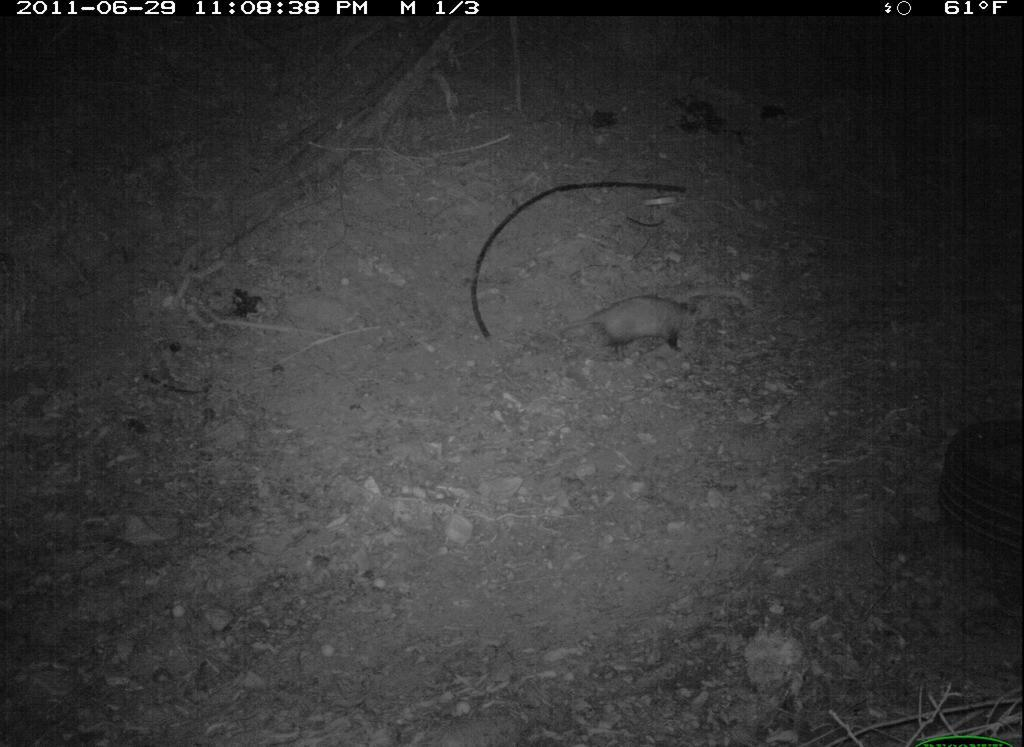opossum: (555, 289, 719, 370)
